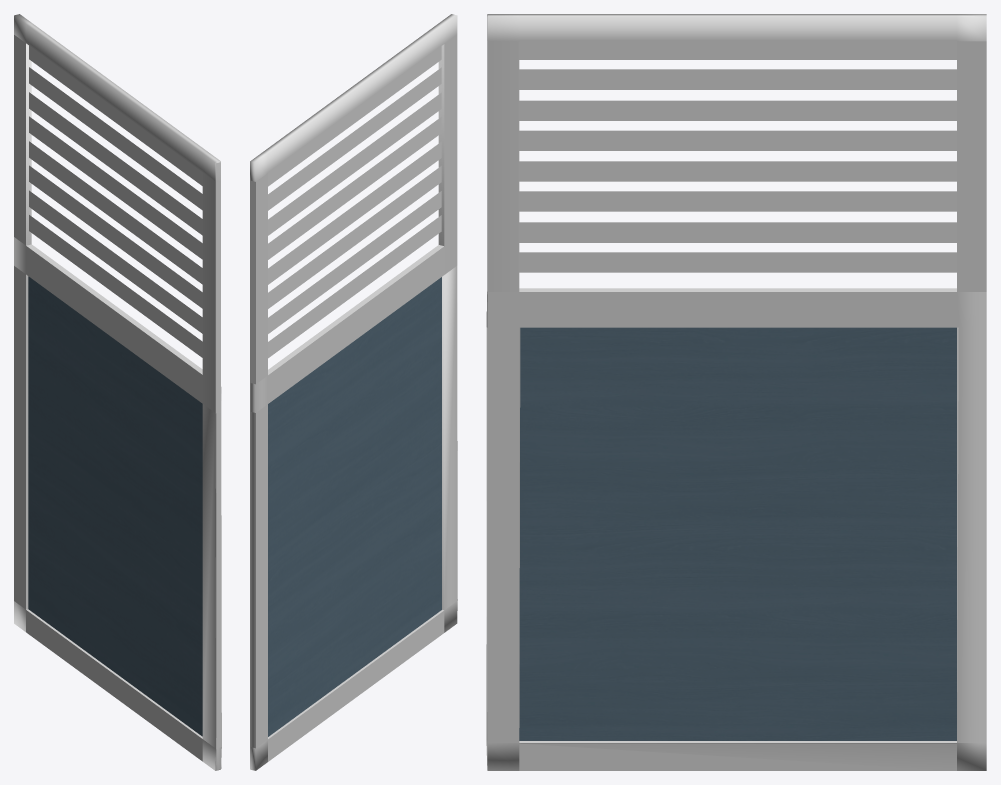
Rendered from table-wall_2.fbx.
3 renders of one model, left to right at view 1: azimuth 30°, elevation 25°; view 2: azimuth 150°, elevation 25°; view 3: azimuth 270°, elevation 25°, orthographic. The views are drawn at different scales.
Visible parts, largest first — view 1: Leg.007; view 2: Leg.007; view 3: Leg.007.
Part boxes in pixels (x1=…): Leg.007: x1=14, y1=14, x2=221, y2=770; Leg.007: x1=250, y1=14, x2=457, y2=770; Leg.007: x1=486, y1=14, x2=986, y2=770.
Bounding box in the file's own units: 0.0207 × 1.94 × 1.17.
